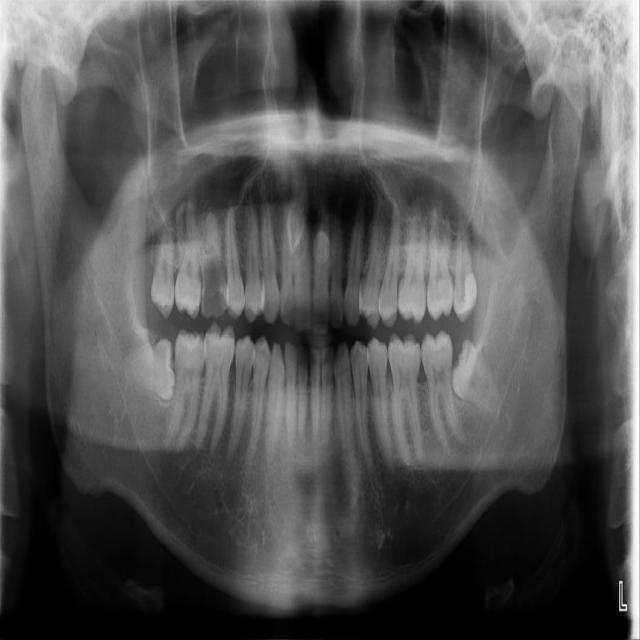Caries: (203, 261, 227, 317)
Filling: (453, 269, 477, 322)
impacted tooth: (450, 338, 507, 410), (117, 336, 173, 399)
